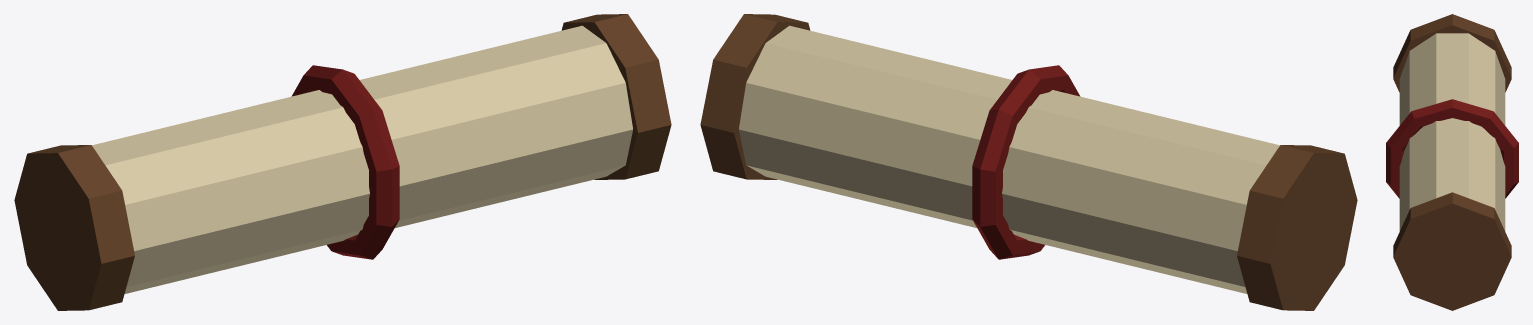
File: item_scroll.glb
3 renders of one model, left to right at view 1: azimuth 30°, elevation 25°; view 2: azimuth 150°, elevation 25°; view 3: azimuth 270°, elevation 25°, orthographic. The views are drawn at different scales.
Visible parts, largest first — view 1: scroll; view 2: scroll; view 3: scroll.
Boxes of the visible parts, <box> form: scroll: <box>14,14,671,310</box>; scroll: <box>700,14,1357,310</box>; scroll: <box>1386,14,1518,310</box>.
Size of the model in its own units: 0.34 by 0.106 by 0.1008.
